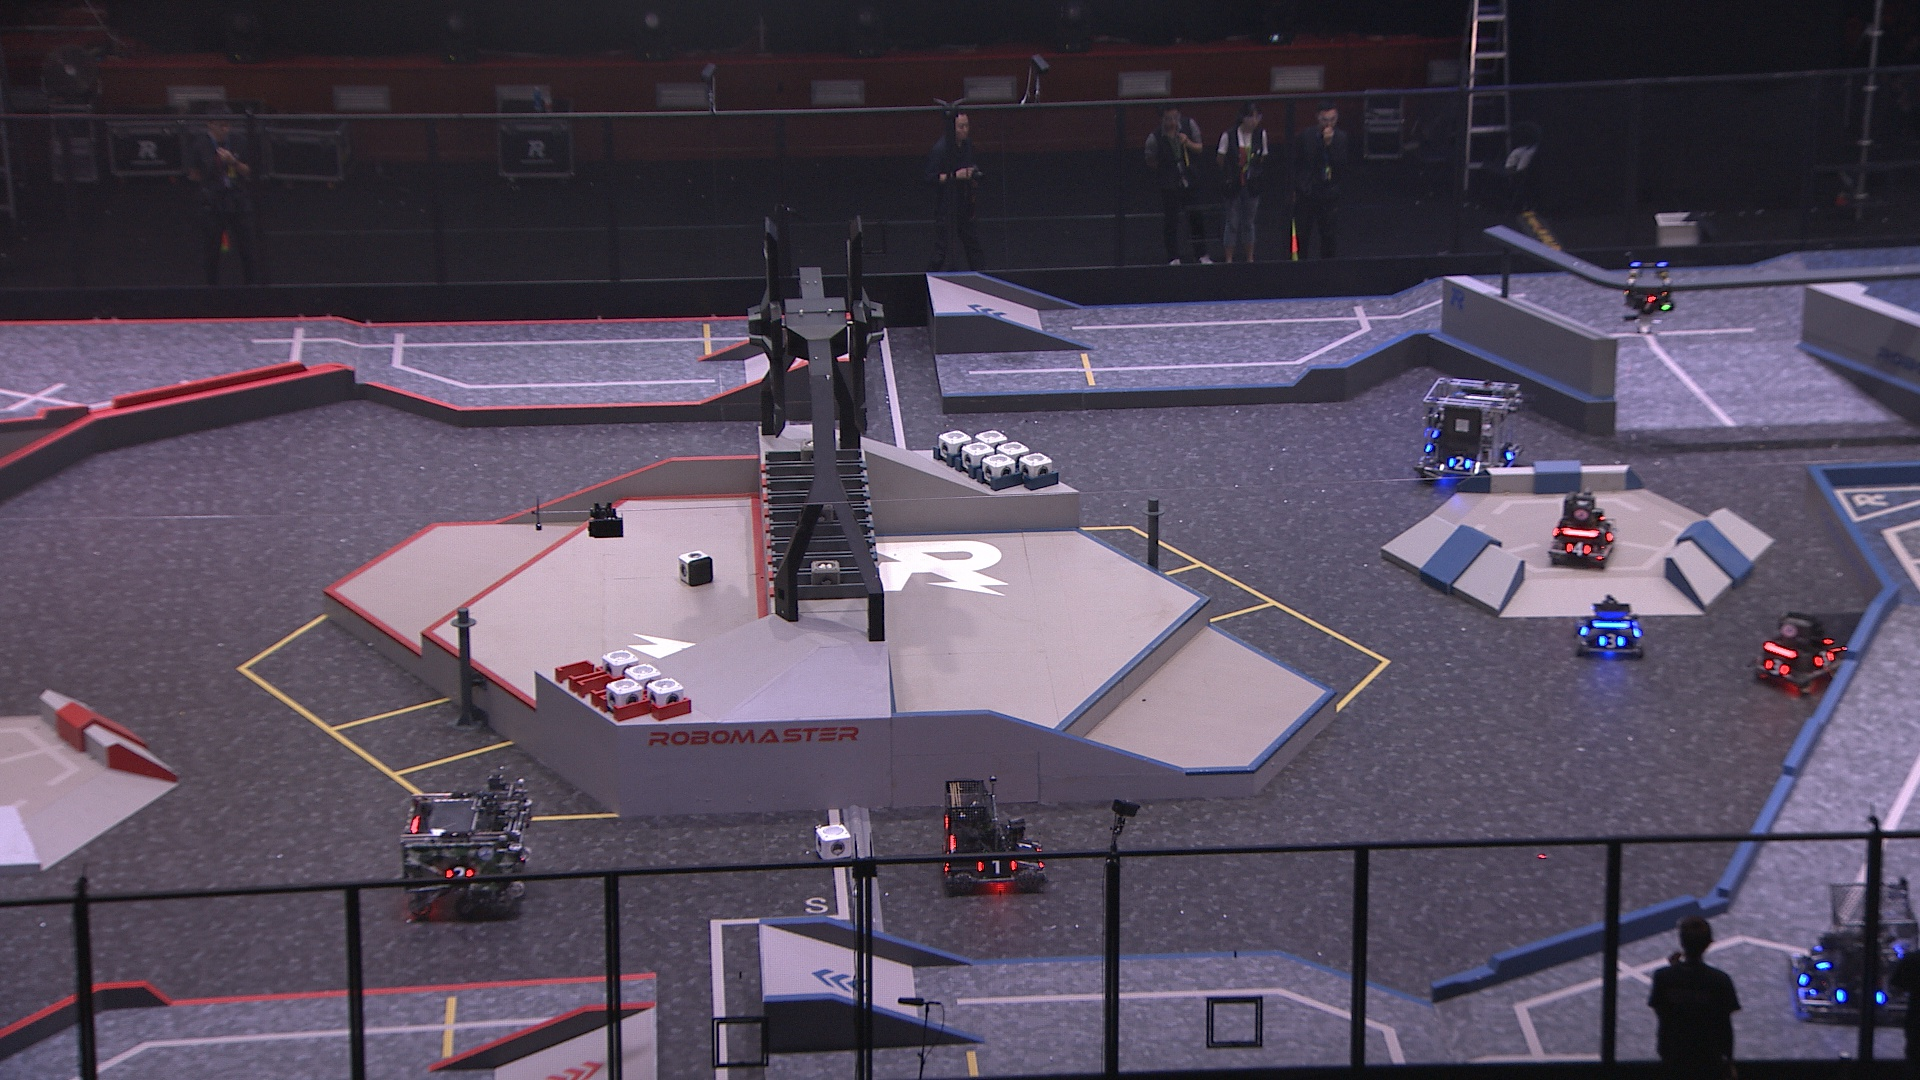armor: (1833, 982, 1887, 1010), (973, 853, 1015, 878), (1631, 294, 1673, 314), (1804, 942, 1832, 971), (442, 864, 475, 887), (1596, 629, 1629, 651), (1762, 655, 1793, 678), (1447, 451, 1476, 475), (1792, 956, 1812, 986), (1564, 538, 1594, 556), (1813, 647, 1840, 669), (1015, 839, 1035, 860), (1501, 442, 1519, 462)
car: (400, 764, 527, 924), (1789, 877, 1920, 1031), (936, 774, 1048, 897), (1418, 371, 1524, 491), (1751, 612, 1850, 694), (1545, 488, 1619, 571), (1572, 593, 1643, 659)
watcher: (1615, 247, 1677, 338)
